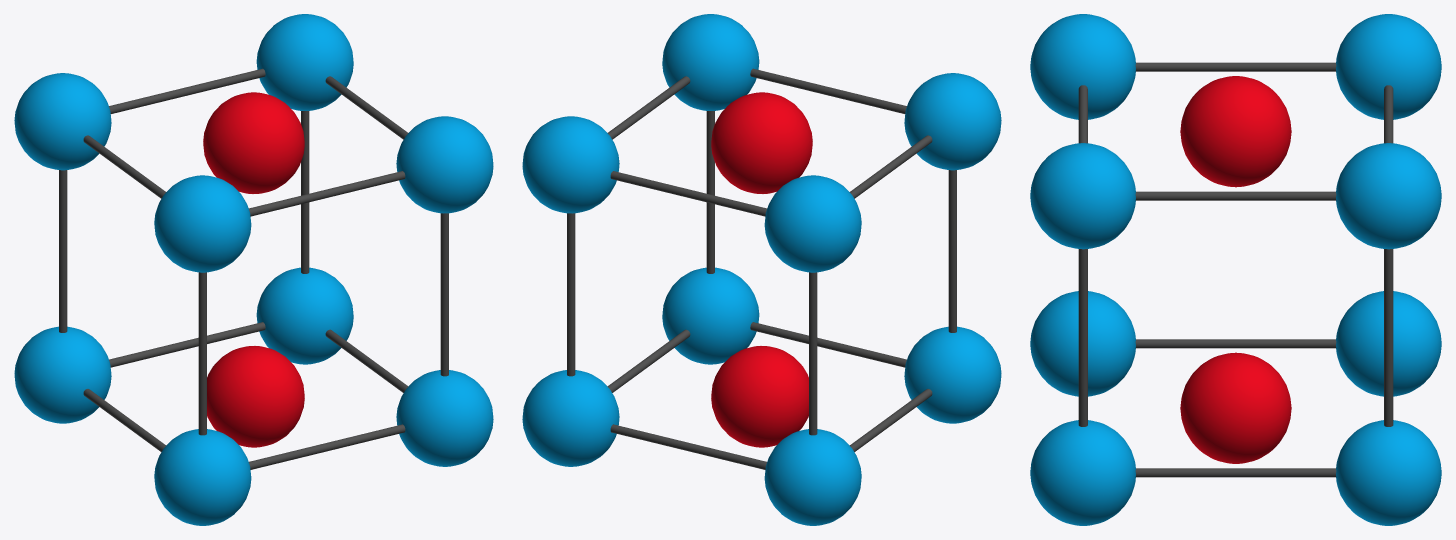
The model's file is ECC.glb.
3 renders of one model, left to right at view 1: azimuth 30°, elevation 25°; view 2: azimuth 150°, elevation 25°; view 3: azimuth 270°, elevation 25°, orthographic. The views are drawn at different scales.
Visible parts, largest first — view 1: Sphere.012, Sphere.013, Sphere.006, Sphere.007, Sphere.002, Sphere.003, Sphere.005, Sphere.008, Sphere.001, Sphere.004, Cylinder.002, Cylinder (+10 smaller); view 2: Sphere.012, Sphere.013, Sphere.005, Sphere.008, Sphere.001, Sphere.004, Sphere.006, Sphere.007, Sphere.002, Sphere.003, Cylinder.003, Cylinder.001 (+10 smaller); view 3: Sphere.012, Sphere.013, Sphere.001, Sphere.002, Sphere.003, Sphere.004, Sphere.005, Sphere.006, Sphere.007, Sphere.008, Cylinder.004, Cylinder.005 (+6 smaller).
Boxes of the visible parts, box(x1,y1,x2,y2) form: Sphere.012: box(203, 92, 304, 193); Sphere.013: box(207, 346, 304, 447); Sphere.006: box(154, 175, 251, 272); Sphere.007: box(154, 429, 251, 525); Sphere.002: box(396, 116, 493, 213); Sphere.003: box(396, 370, 493, 466); Sphere.005: box(14, 73, 111, 170); Sphere.008: box(14, 326, 111, 423); Sphere.001: box(256, 14, 353, 110); Sphere.004: box(256, 267, 353, 364); Cylinder.002: box(198, 272, 206, 435); Cylinder: box(440, 213, 448, 376); Sphere.012: box(711, 92, 812, 193); Sphere.013: box(711, 346, 808, 447); Sphere.005: box(764, 175, 861, 272); Sphere.008: box(764, 429, 861, 525); Sphere.001: box(522, 116, 619, 213); Sphere.004: box(522, 370, 619, 466); Sphere.006: box(904, 73, 1001, 170); Sphere.007: box(904, 326, 1001, 423); Sphere.002: box(662, 14, 759, 110); Sphere.003: box(662, 267, 759, 364); Cylinder.003: box(809, 272, 817, 435); Cylinder.001: box(567, 213, 575, 376); Sphere.012: box(1180, 76, 1291, 187); Sphere.013: box(1180, 352, 1291, 463); Sphere.001: box(1336, 143, 1441, 249); Sphere.002: box(1030, 143, 1135, 249); Sphere.003: box(1030, 420, 1135, 525); Sphere.004: box(1336, 420, 1441, 525); Sphere.005: box(1336, 14, 1441, 119); Sphere.006: box(1030, 14, 1135, 119); Sphere.007: box(1030, 291, 1135, 396); Sphere.008: box(1336, 291, 1441, 396); Cylinder.004: box(1135, 62, 1336, 71); Cylinder.005: box(1135, 339, 1336, 348).
Size of the model in its own units: 2.7 by 2.73 by 2.7.
